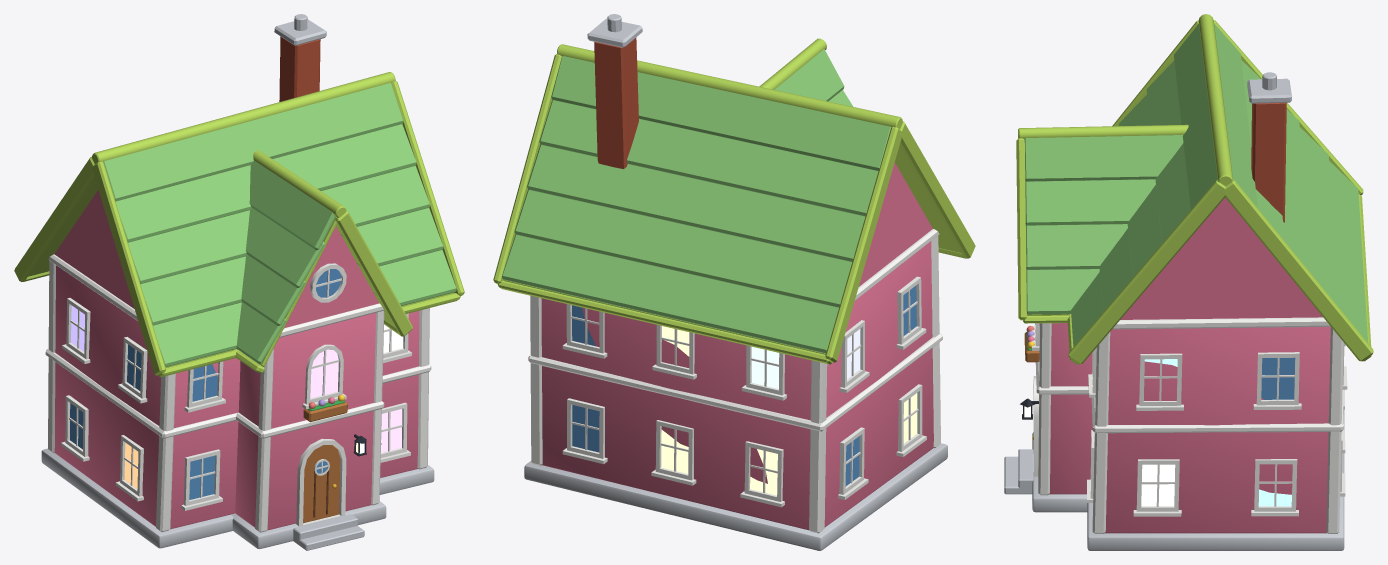
Rendered from casa_torta_empena_rosa.glb.
3 renders of one model, left to right at view 1: azimuth 30°, elevation 25°; view 2: azimuth 150°, elevation 25°; view 3: azimuth 270°, elevation 25°, orthographic. The views are drawn at different scales.
Visible parts, largest first — view 1: casa_torta_empena_rosa; view 2: casa_torta_empena_rosa; view 3: casa_torta_empena_rosa.
Boxes of the visible parts, x1,y1,x2,y2 form: casa_torta_empena_rosa: (14, 14, 464, 550); casa_torta_empena_rosa: (493, 14, 975, 550); casa_torta_empena_rosa: (1004, 14, 1373, 550).
Size of the model in its own units: 10.79 by 13.55 by 10.05.
9 materials, 1 textured.
